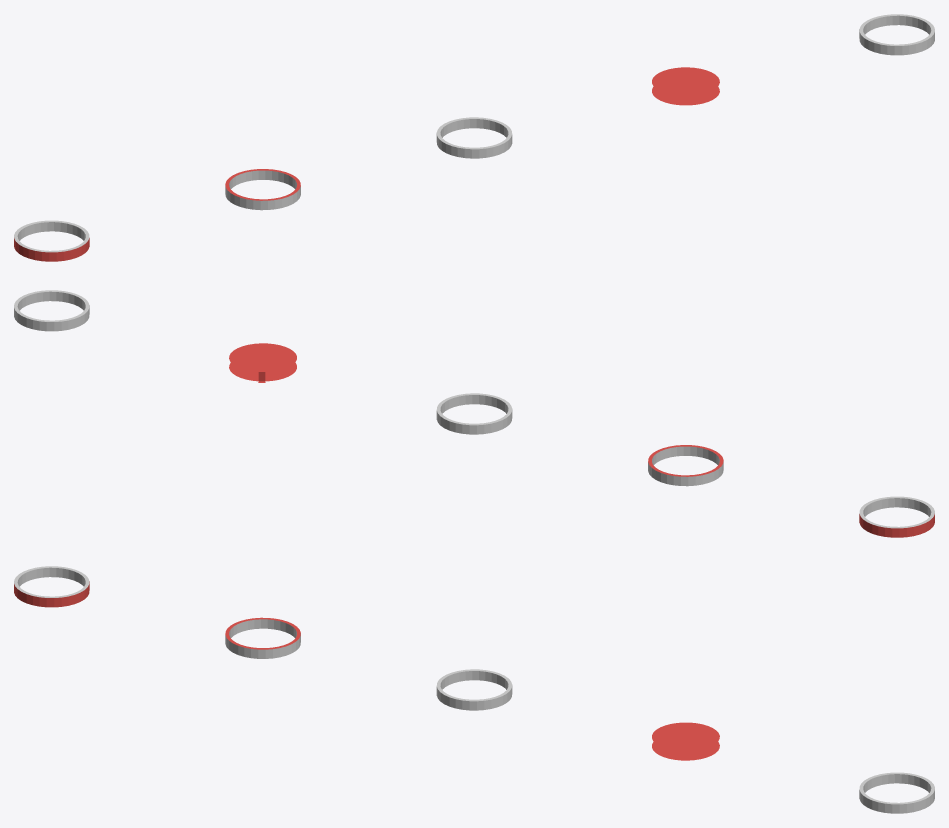
The model's file is Spacer.fbx.
3 views of the same model, one above another, from view 1: azimuth 30°, elevation 25°; view 2: azimuth 150°, elevation 25°; view 3: azimuth 330°, elevation 25° (orthographic).
Parts seen in each view (by area): view 1: 7.004.A, 7.004.B, 7.004, 7.004.D, 7.004.C; view 2: 7.004.A, 7.004.B, 7.004, 7.004.D, 7.004.C; view 3: 7.004.A, 7.004.B, 7.004, 7.004.D, 7.004.C.
Part boxes in pixels (box(x1,y1,x2,y2)): 7.004.A: box(652, 67, 719, 105); 7.004.B: box(436, 117, 512, 158); 7.004: box(859, 14, 934, 55); 7.004.D: box(14, 220, 89, 261); 7.004.C: box(225, 169, 300, 210); 7.004.A: box(229, 343, 296, 382); 7.004.B: box(436, 393, 512, 434); 7.004: box(14, 290, 89, 331); 7.004.D: box(859, 496, 934, 537); 7.004.C: box(648, 445, 723, 486); 7.004.A: box(652, 722, 719, 760); 7.004.B: box(436, 669, 512, 710); 7.004: box(859, 772, 934, 813); 7.004.D: box(14, 566, 89, 607); 7.004.C: box(225, 617, 300, 658).
Bounding box in the file's own units: 431 × 4.22 × 31.
